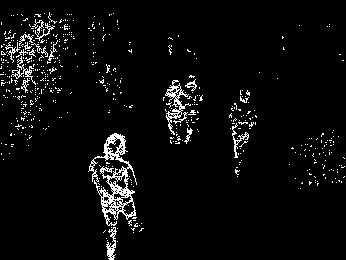person: (88, 133, 143, 260), (227, 88, 258, 178), (161, 80, 185, 145), (185, 75, 204, 143)
